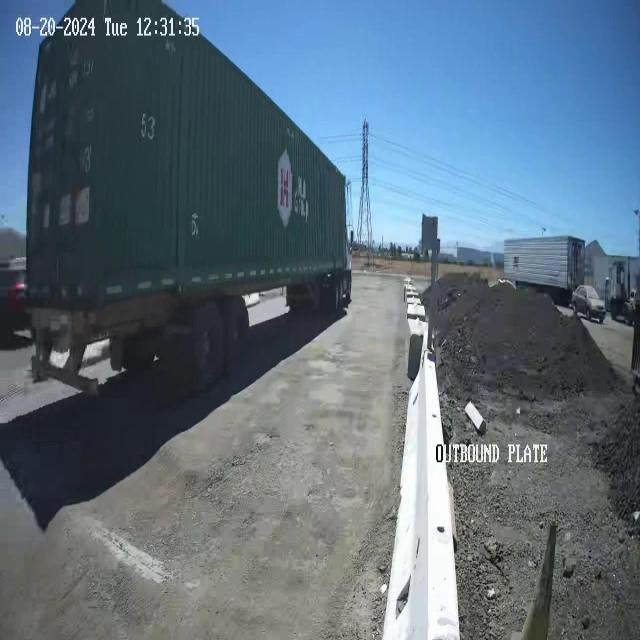TRUCK_CONTAINER: (23, 1, 353, 394)
